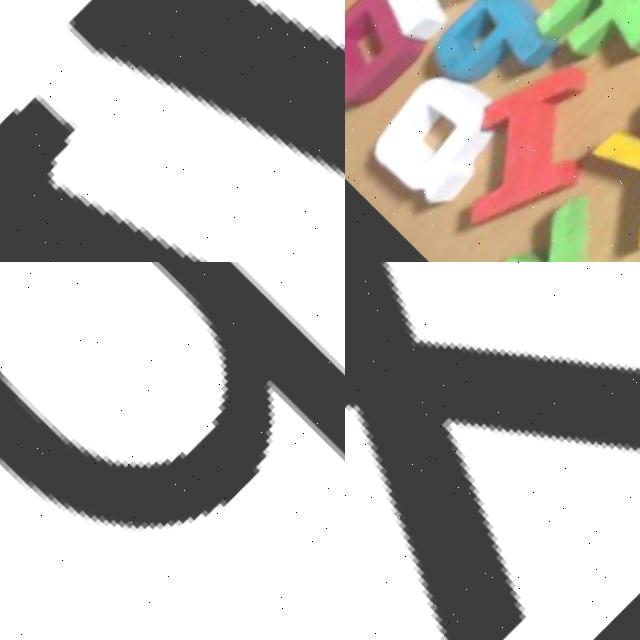F: (515, 0, 640, 96)
H: (345, 0, 507, 60)
I: (398, 45, 631, 262)
O: (345, 0, 442, 140)
P: (397, 0, 567, 126)
Q: (345, 55, 519, 224)
U: (0, 0, 345, 262)
X: (345, 262, 640, 640), (535, 56, 640, 262)
Y: (446, 185, 640, 262)
